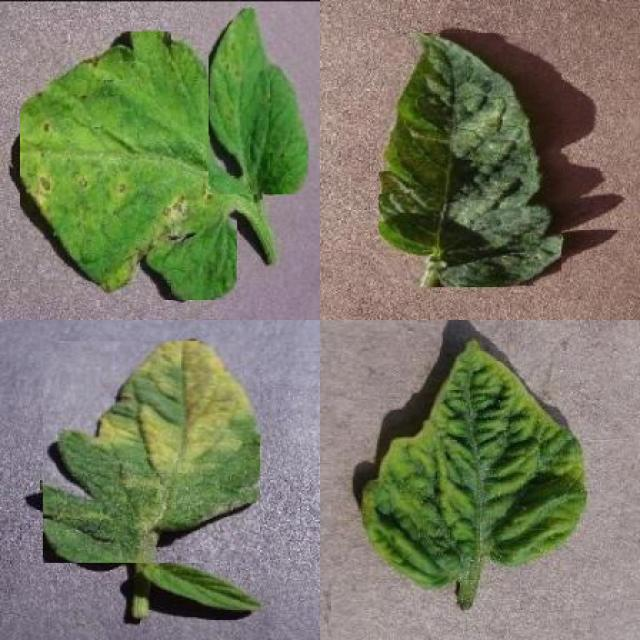Leaf Mold: (42, 340, 260, 563)
Septoria: (20, 31, 237, 300), (208, 8, 308, 195)
Spider Mites: (379, 33, 562, 287)
Yellow Leaf Curl Virus: (364, 335, 590, 591)
